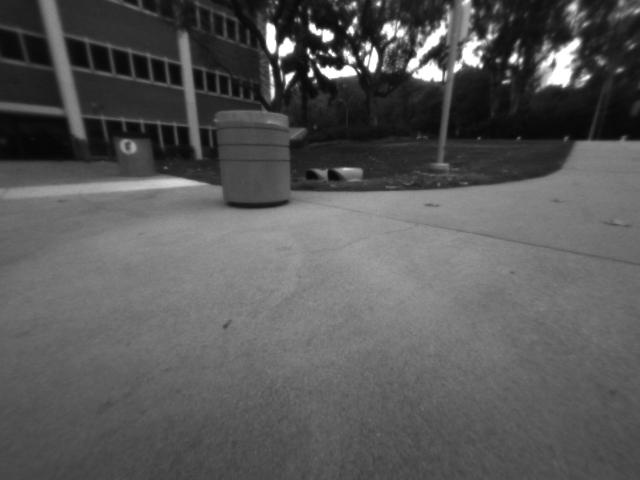trashcan: (204, 100, 302, 215), (108, 127, 160, 181)
